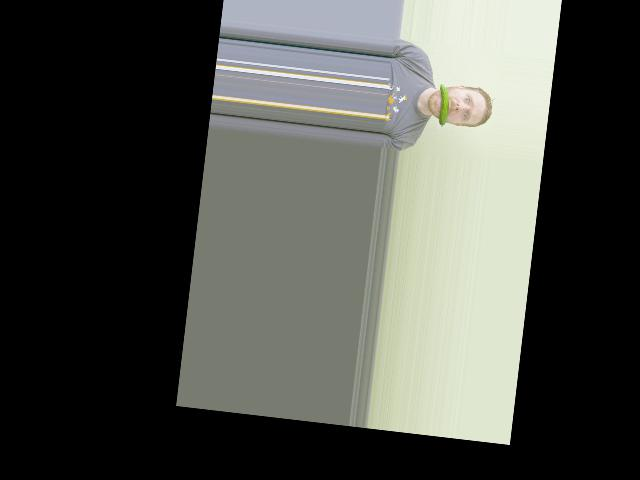cucumber: (435, 83, 450, 127)
